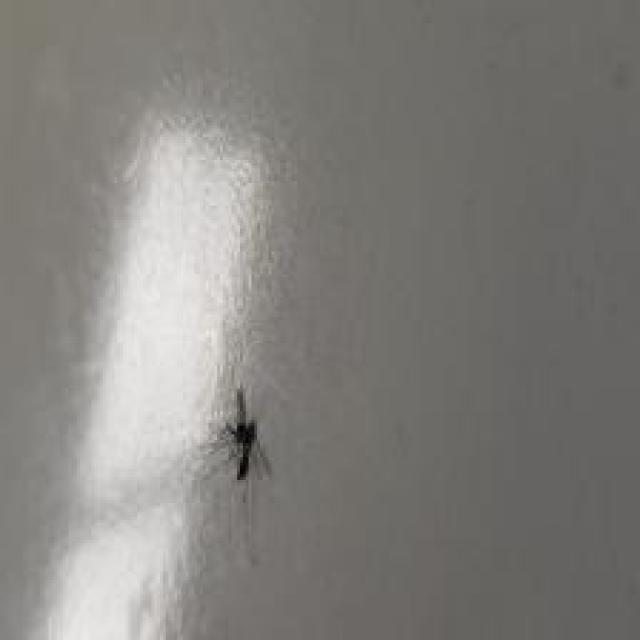Aedes albopictus: (210, 386, 273, 483)
